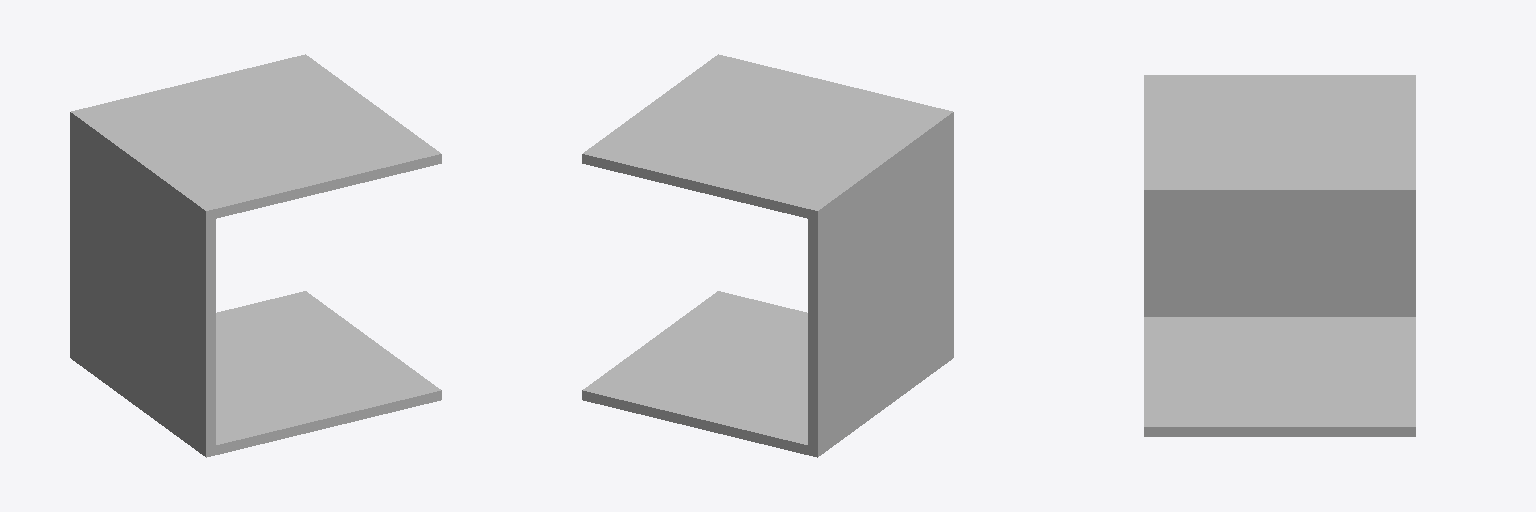
Rendered from coridor_t.obj.
The picture shows the model from 3 angles: view 1: azimuth 30°, elevation 25°; view 2: azimuth 150°, elevation 25°; view 3: azimuth 270°, elevation 25°; orthographic projection.
Parts seen in each view (by area): view 1: pillar, ceiling, floor; view 2: pillar, ceiling, floor; view 3: ceiling, floor, pillar.
Boxes of the visible parts, x1=… form: pillar: x1=70, y1=109, x2=215, y2=456; ceiling: x1=70, y1=54, x2=441, y2=220; floor: x1=70, y1=291, x2=441, y2=457; pillar: x1=808, y1=111, x2=953, y2=455; ceiling: x1=582, y1=54, x2=953, y2=219; floor: x1=582, y1=291, x2=953, y2=457; ceiling: x1=1144, y1=75, x2=1415, y2=199; floor: x1=1144, y1=317, x2=1415, y2=436; pillar: x1=1144, y1=75, x2=1415, y2=316.
Bounding box in the file's own units: 5 × 5 × 5.